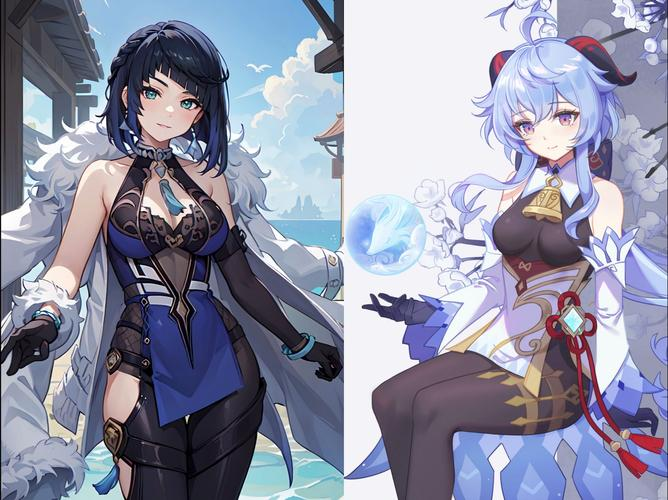夜兰: (2, 13, 341, 500)
